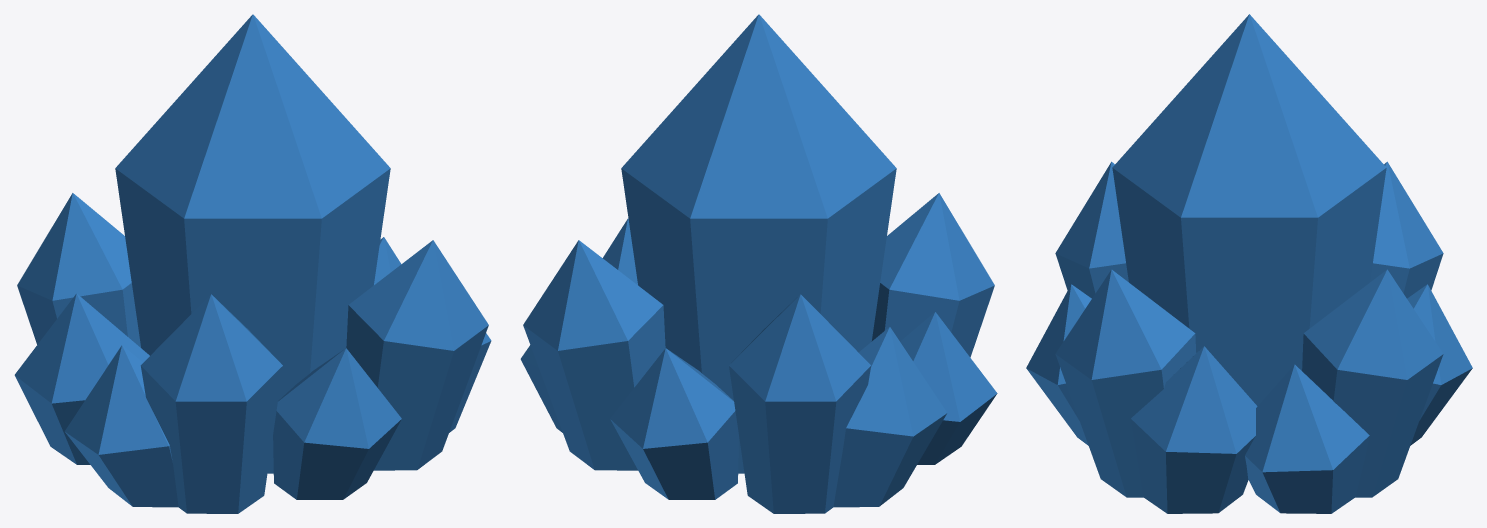
File: Resource Mineral (v.1).fbx
3 views of the same model, side by side, from view 1: azimuth 30°, elevation 25°; view 2: azimuth 150°, elevation 25°; view 3: azimuth 270°, elevation 25° (orthographic).
Parts seen in each view (by area): view 1: mineral; view 2: mineral; view 3: mineral.
Part boxes in pixels (<box>): mineral: <box>14,14,491,513</box>; mineral: <box>520,14,997,513</box>; mineral: <box>1026,14,1472,513</box>.
Size of the model in its own units: 75.26 by 77.49 by 74.43.
